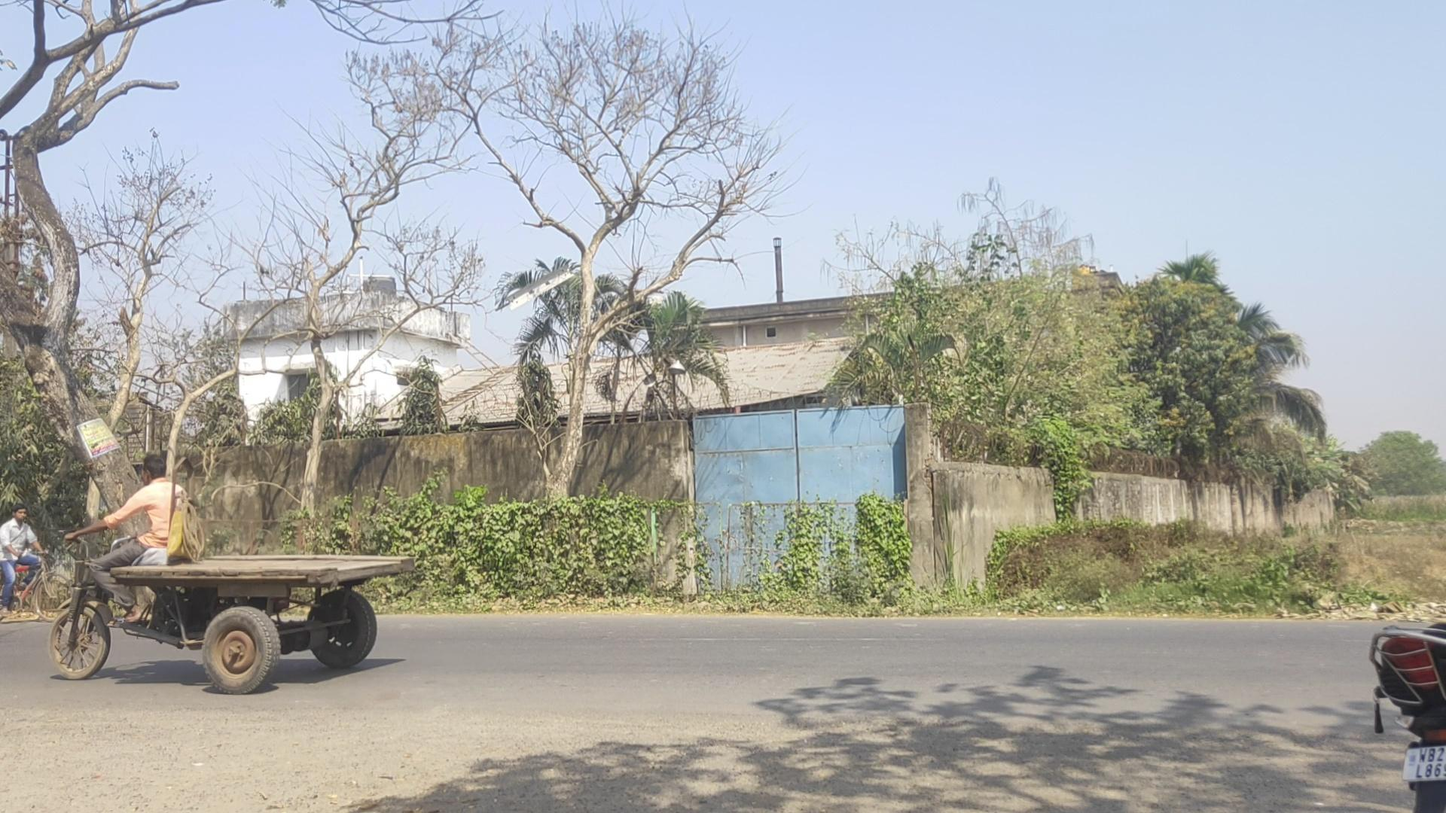bike: (1, 503, 75, 623)
